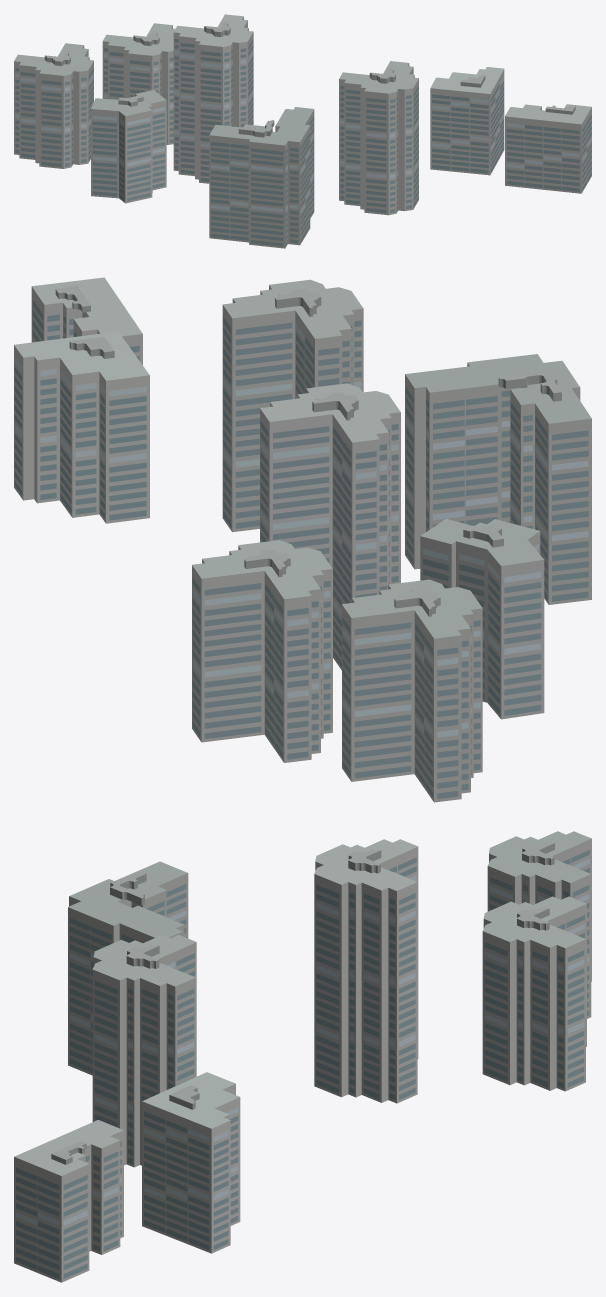
The model's file is apt-a12170702.glb.
3 views of the same model, one above another, from view 1: azimuth 30°, elevation 25°; view 2: azimuth 150°, elevation 25°; view 3: azimuth 270°, elevation 25° (orthographic). The views are drawn at different scales.
Parts seen in each view (by area): view 1: apt-a12170702; view 2: apt-a12170702; view 3: apt-a12170702.
Boxes of the visible parts, x1,y1,x2,y2 form: apt-a12170702: (14,14,591,248); apt-a12170702: (14,277,591,802); apt-a12170702: (14,831,591,1282).
Bounding box in the file's own units: 207 × 69 × 164.
